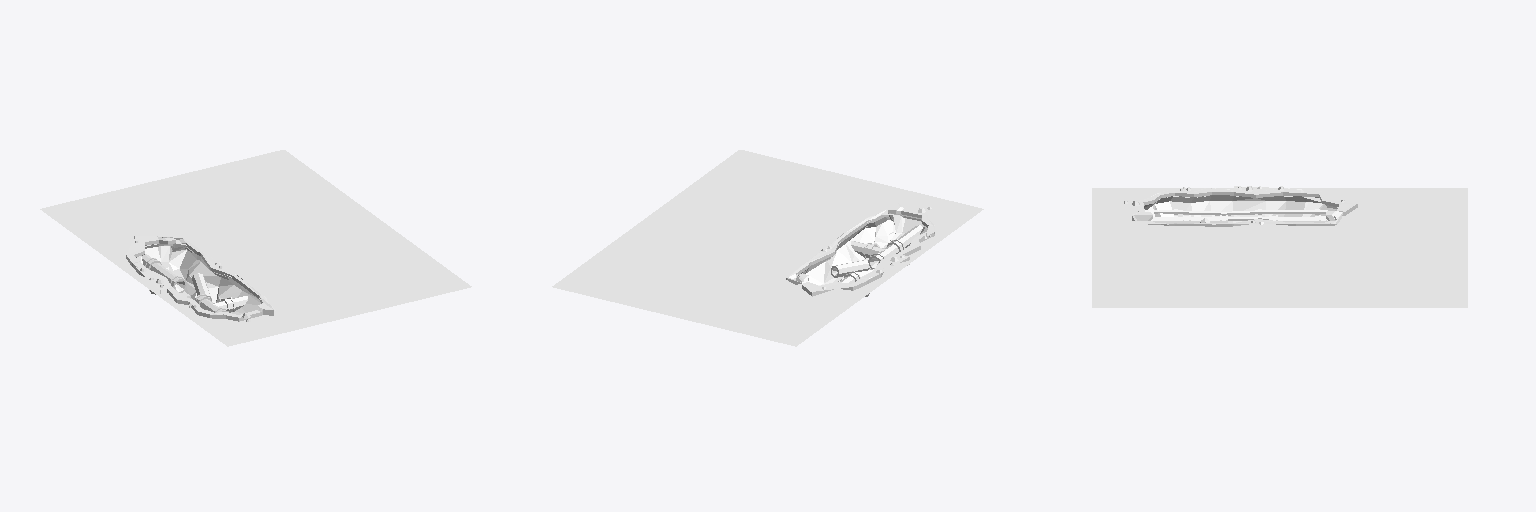
The model's file is construction.obj.
3 renders of one model, left to right at view 1: azimuth 30°, elevation 25°; view 2: azimuth 150°, elevation 25°; view 3: azimuth 270°, elevation 25°, orthographic.
Parts seen in each view (by area): view 1: SM_Env_Road_YellowLines_02_Mesh.001_SM_Env_Road_YellowLines_02_M, SM_Env_Sidewalk_Construction_01_Mesh.003; view 2: SM_Env_Road_YellowLines_02_Mesh.001_SM_Env_Road_YellowLines_02_M, SM_Env_Sidewalk_Construction_01_Mesh.003; view 3: SM_Env_Road_YellowLines_02_Mesh.001_SM_Env_Road_YellowLines_02_M, SM_Env_Sidewalk_Construction_01_Mesh.003.
Part boxes in pixels (x1,y1,x2,y2): SM_Env_Road_YellowLines_02_Mesh.001_SM_Env_Road_YellowLines_02_M: (40, 150, 471, 346); SM_Env_Sidewalk_Construction_01_Mesh.003: (126, 236, 275, 321); SM_Env_Road_YellowLines_02_Mesh.001_SM_Env_Road_YellowLines_02_M: (552, 150, 983, 346); SM_Env_Sidewalk_Construction_01_Mesh.003: (786, 203, 934, 296); SM_Env_Road_YellowLines_02_Mesh.001_SM_Env_Road_YellowLines_02_M: (1092, 188, 1467, 307); SM_Env_Sidewalk_Construction_01_Mesh.003: (1124, 186, 1357, 226).
Bounding box in the file's own units: 0.075 × 0.0089 × 0.0999.